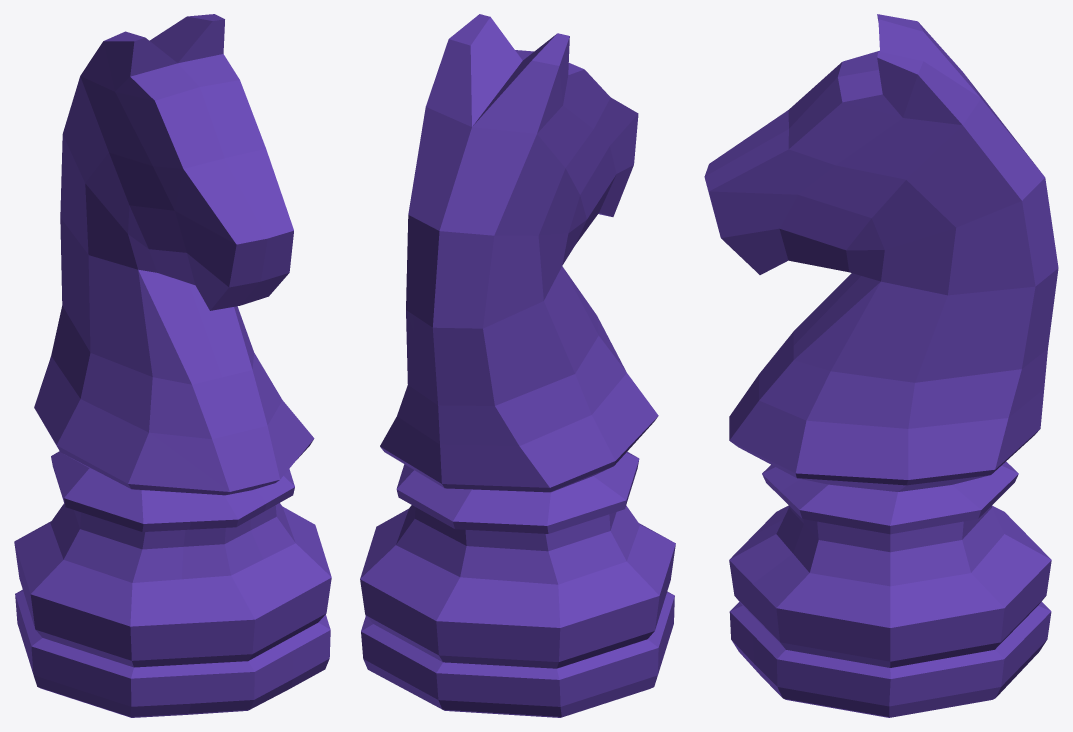
3 views of the same model, side by side, from view 1: azimuth 30°, elevation 25°; view 2: azimuth 150°, elevation 25°; view 3: azimuth 270°, elevation 25° (orthographic).
Parts seen in each view (by area): view 1: Knight; view 2: Knight; view 3: Knight.
Part boxes in pixels (x1,y1,x2,y2): Knight: (14, 14, 331, 717); Knight: (360, 14, 675, 717); Knight: (704, 14, 1058, 717).
Size of the model in its own units: 1.59 by 3.37 by 1.75.
